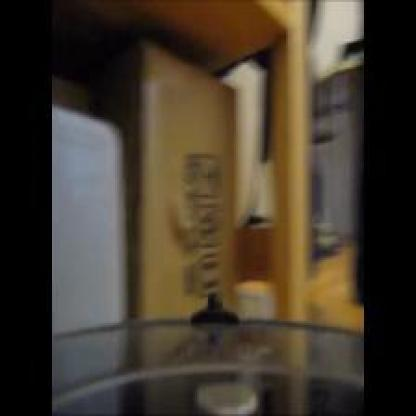other: (272, 91, 360, 333)
